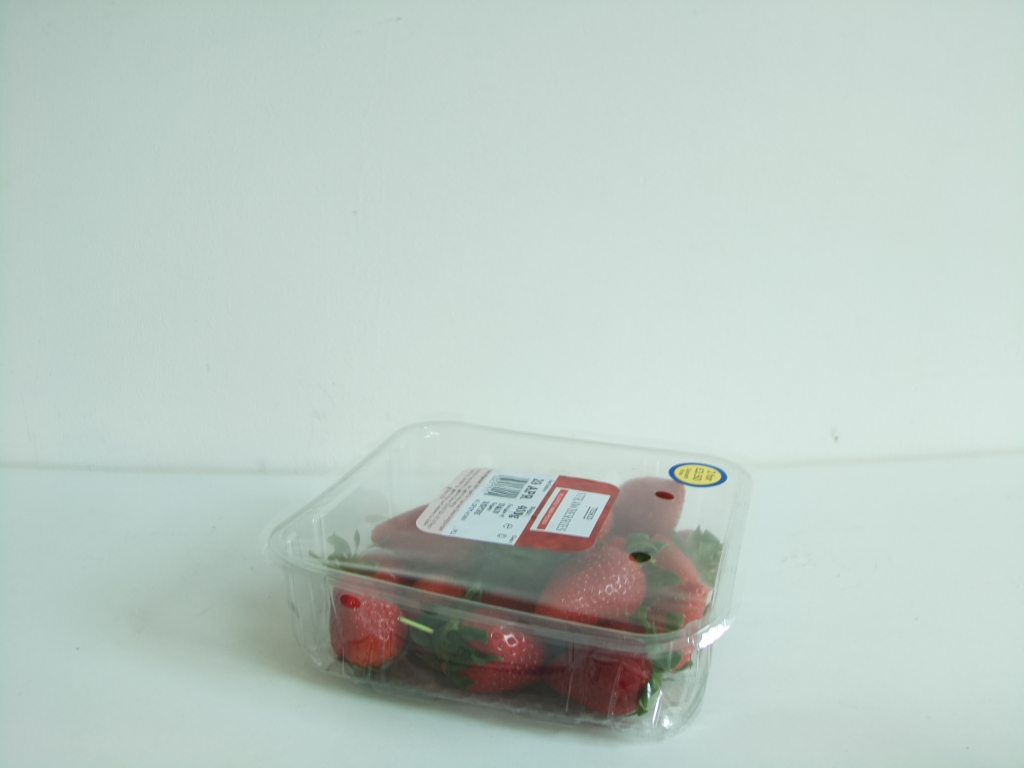soft-fruit: (268, 419, 754, 747)
